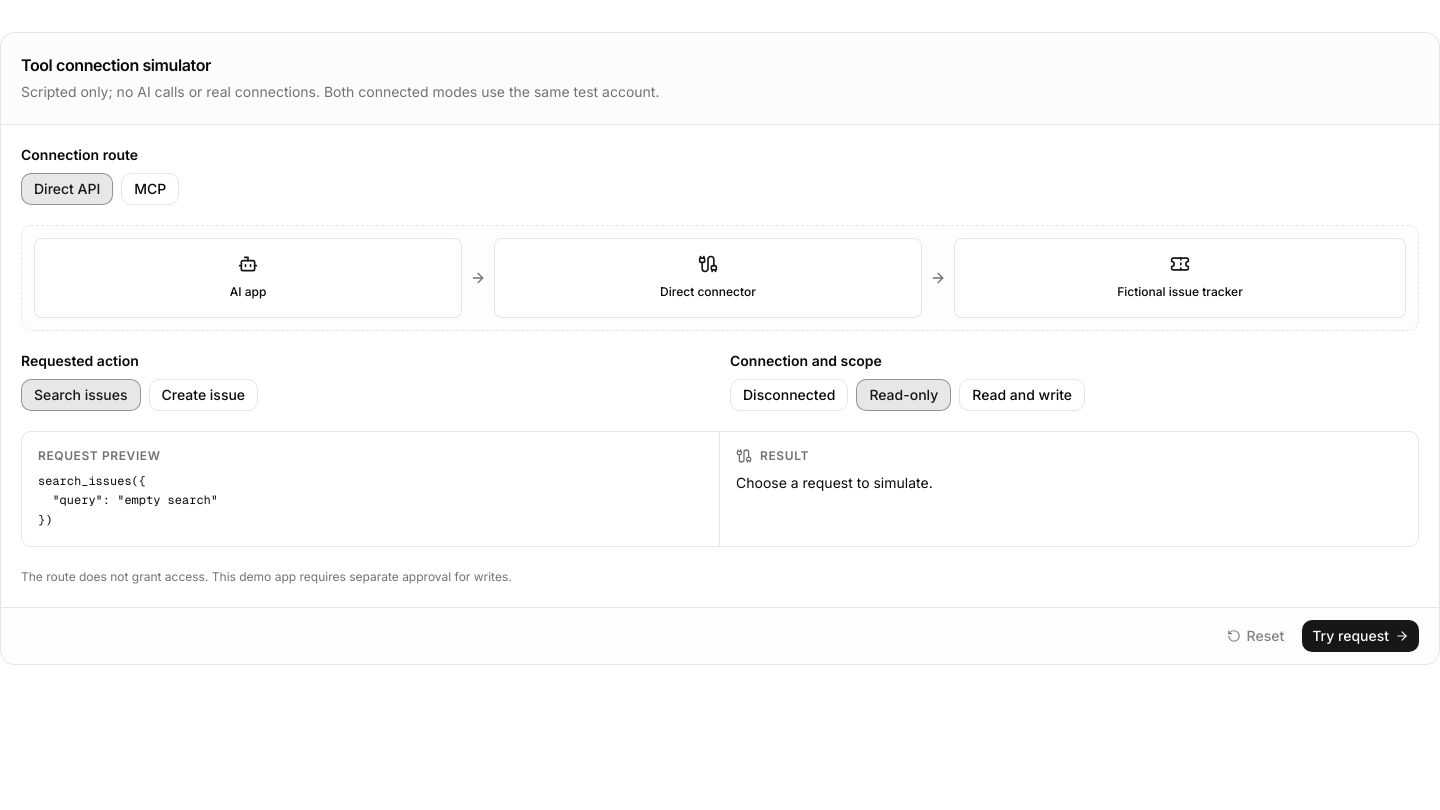
it: ToolsDemo › keeps read-only access read-only over MCP
Click the button "MCP": (150, 189) [121, 173, 179, 205]
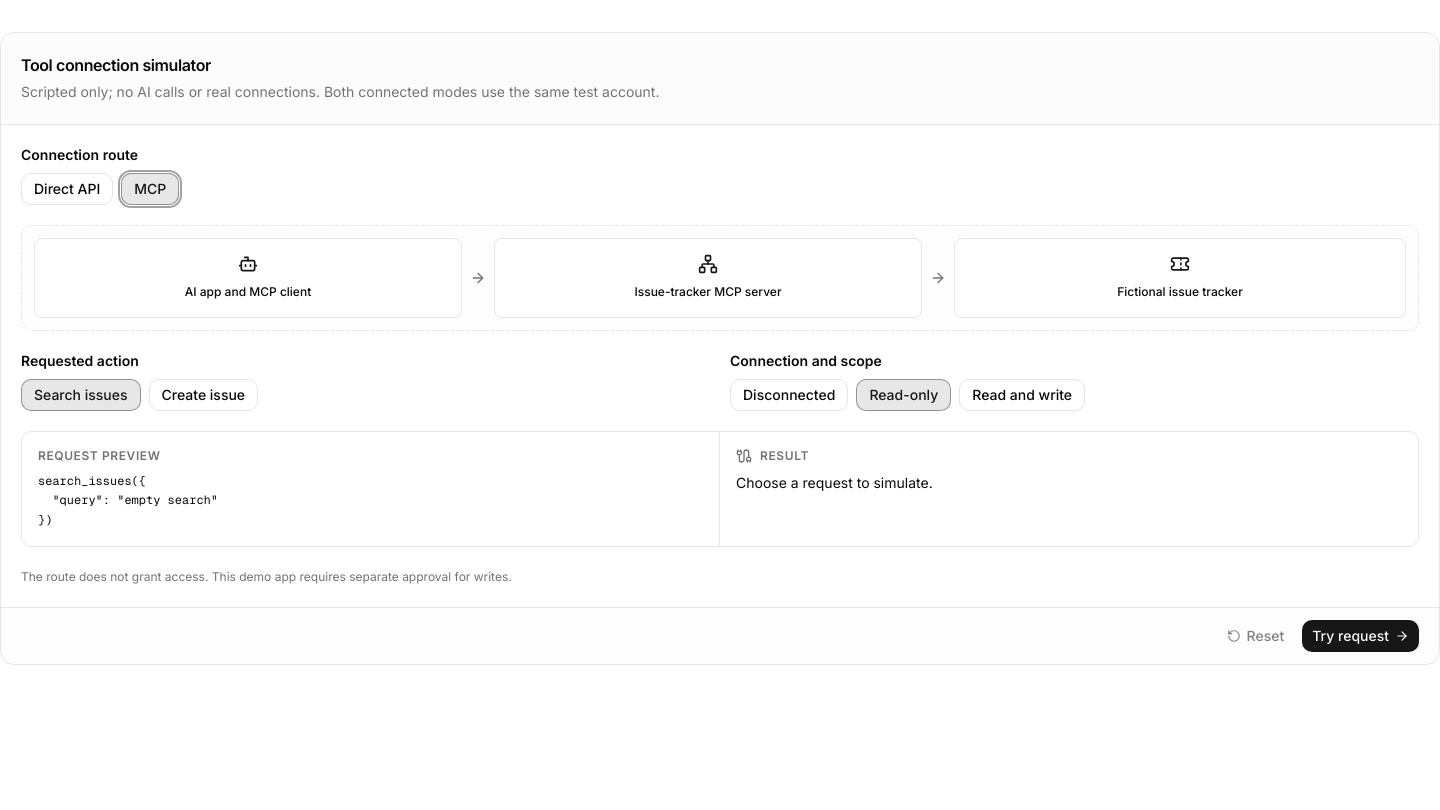
Click the button "Try request": (1361, 636) [1302, 620, 1419, 652]
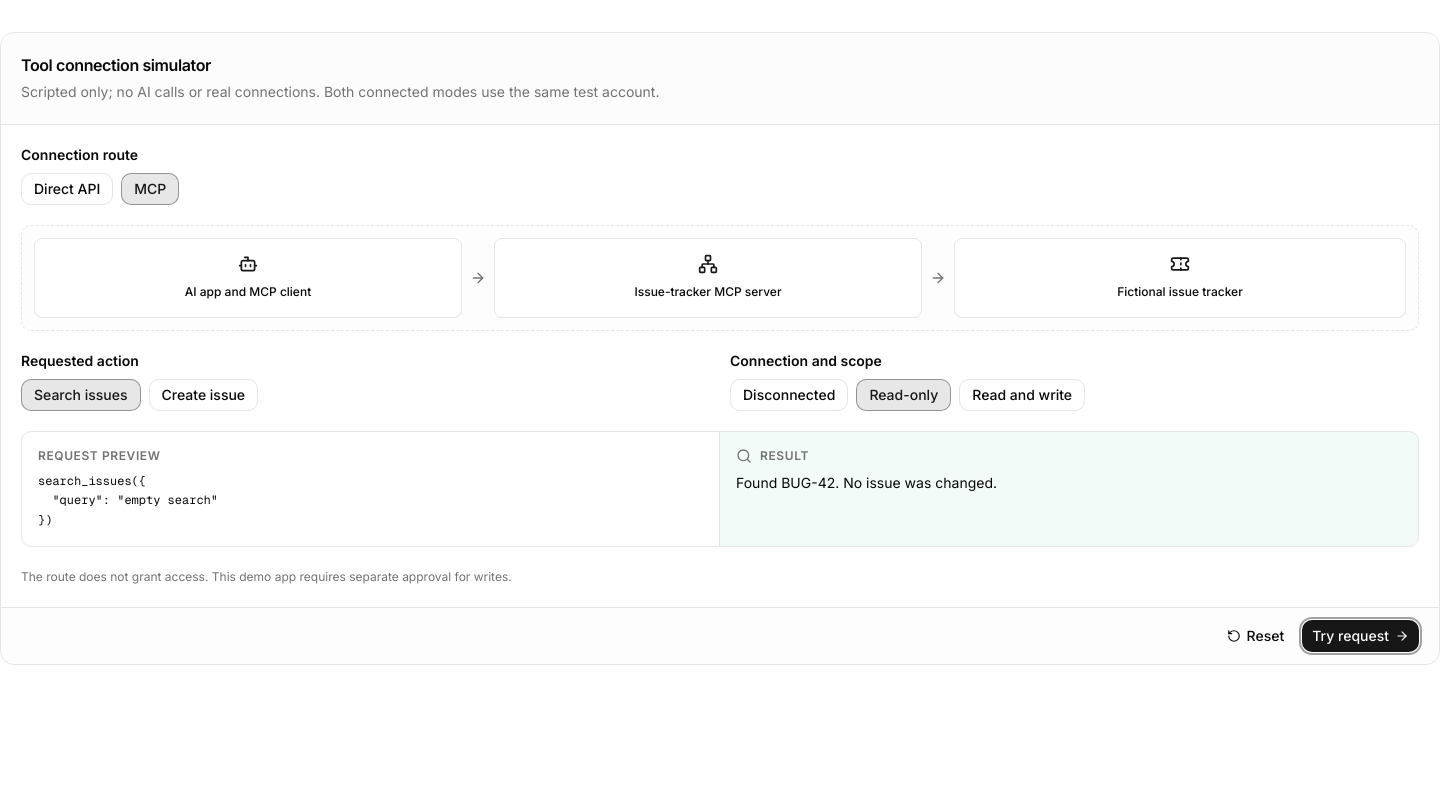
Check: the message reads "Found BUG-42. No issue was changed.", box [736, 474, 997, 491]
Click the button "Create issue": (203, 395) [148, 379, 258, 411]
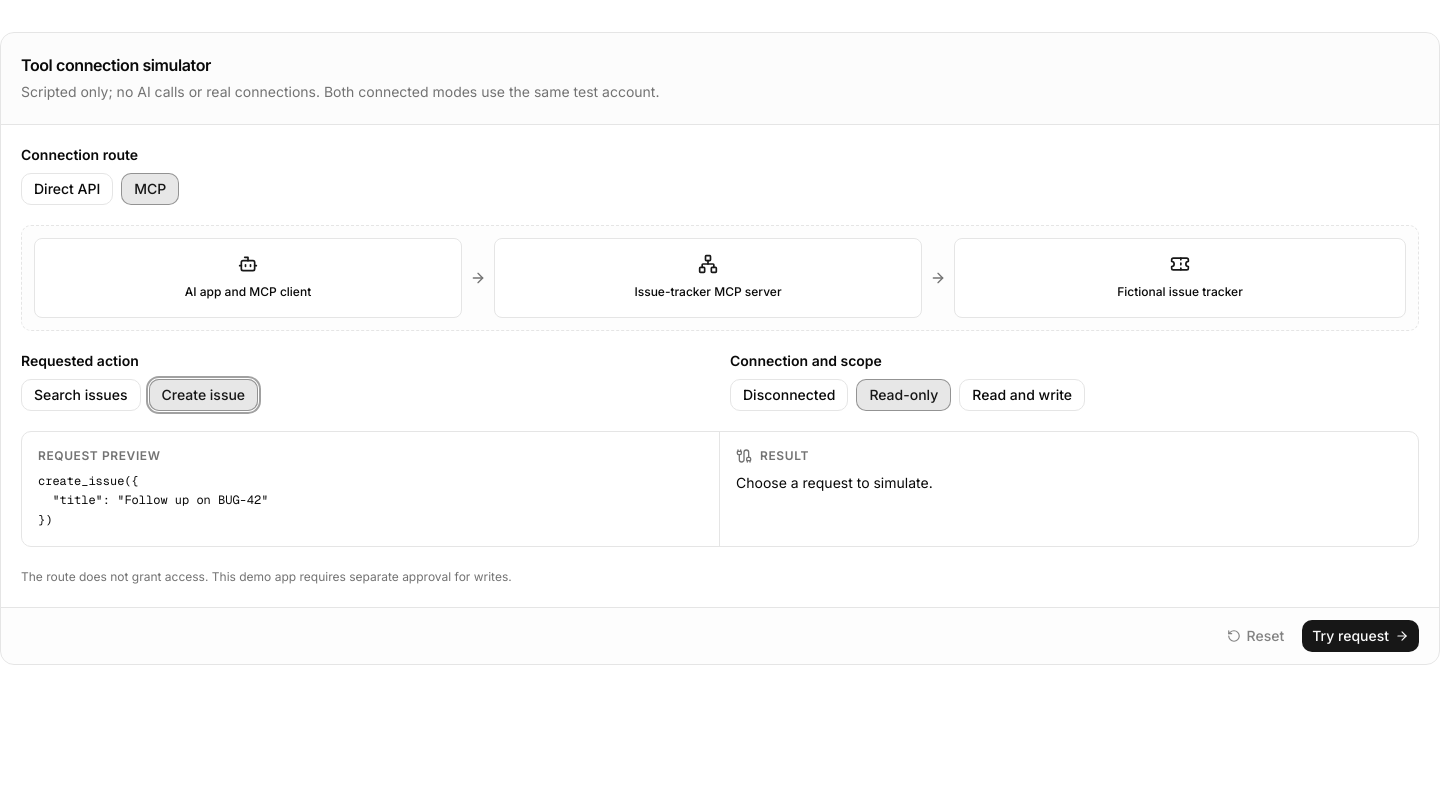
Click the button "Try request": (1361, 636) [1302, 620, 1419, 652]
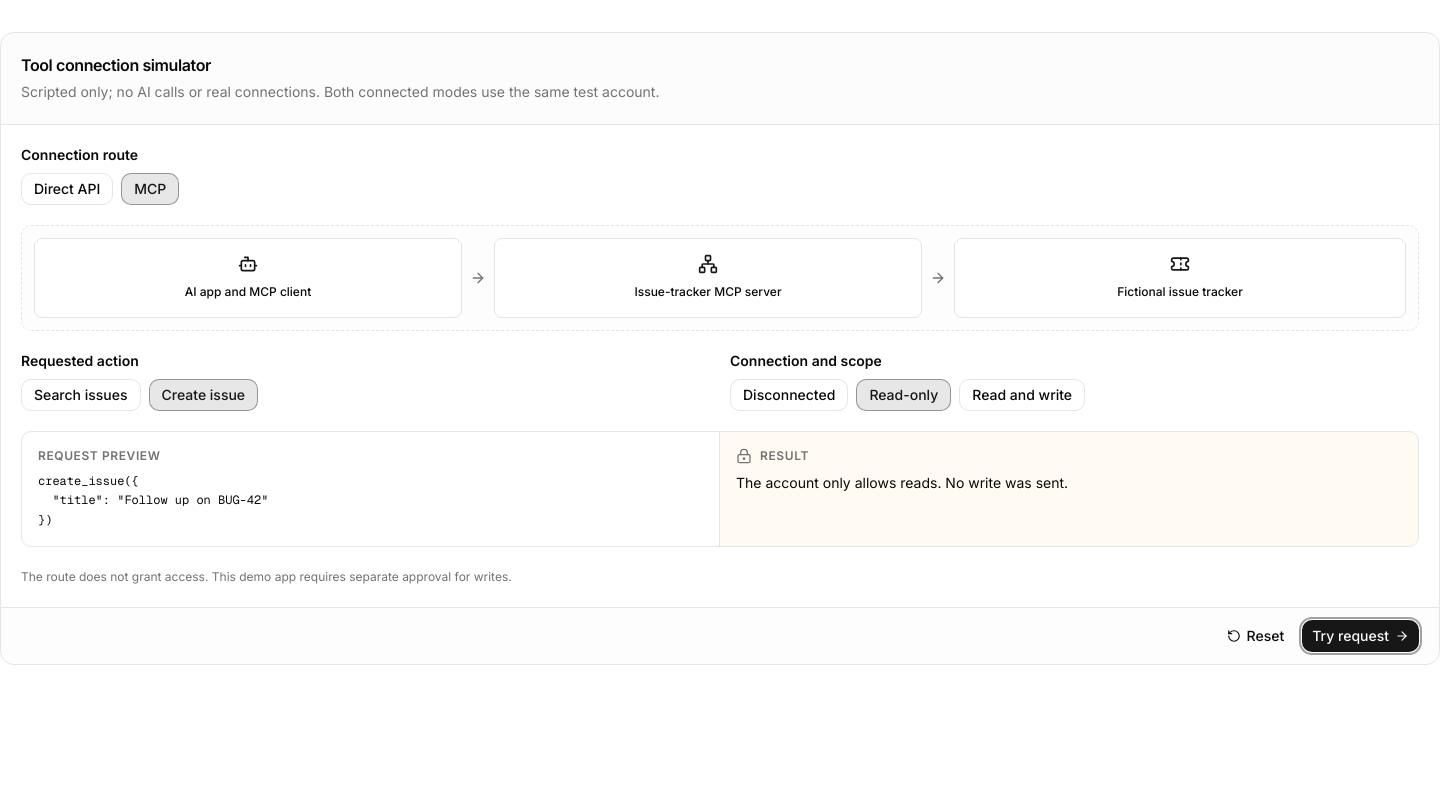
Check: the message reads "The account only allows reads. No write was sent.", box [736, 474, 1068, 491]
